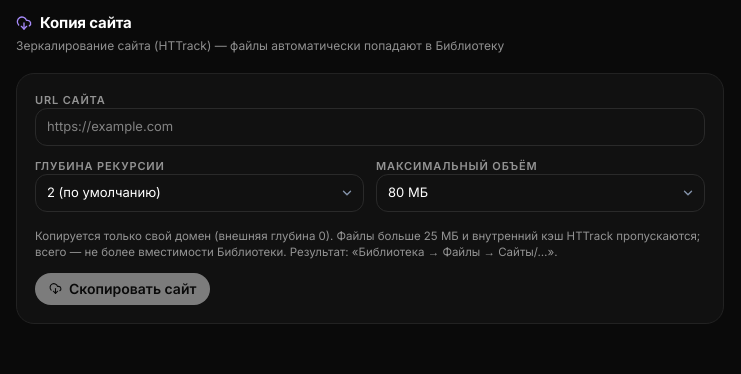
Test: SiteCopy › ошибка валидации показывается в форме
In the field with placeholder "https://example.com": x=370, y=127 [35,108,705,146], type "http://127.0.0.1/x"
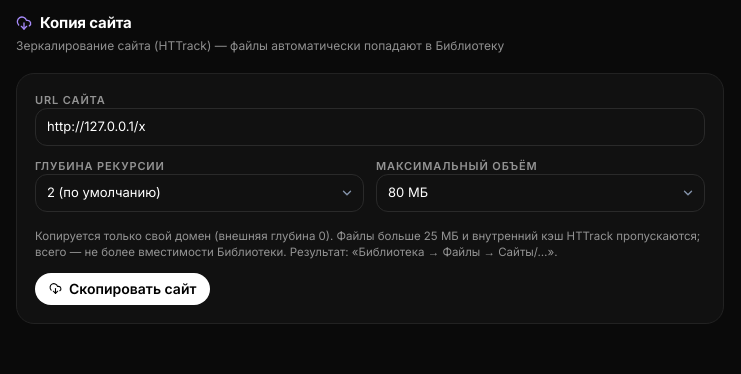
Click the button "Скопировать сайт": x=123, y=289 [35,273,210,305]
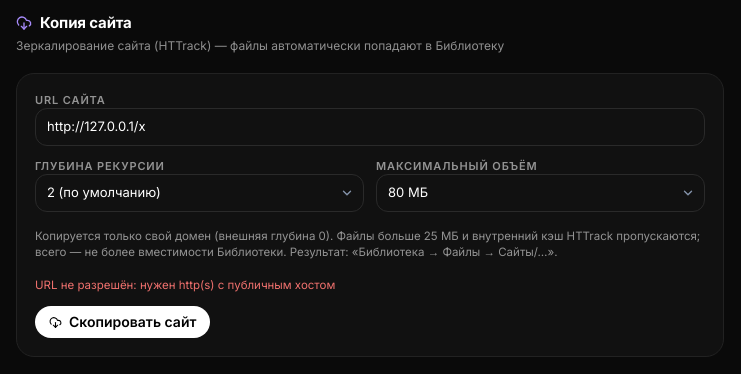
Expected: the text "URL не разрешён: нужен http(s) с публичным хостом" is shown, [35,278,335,292]
